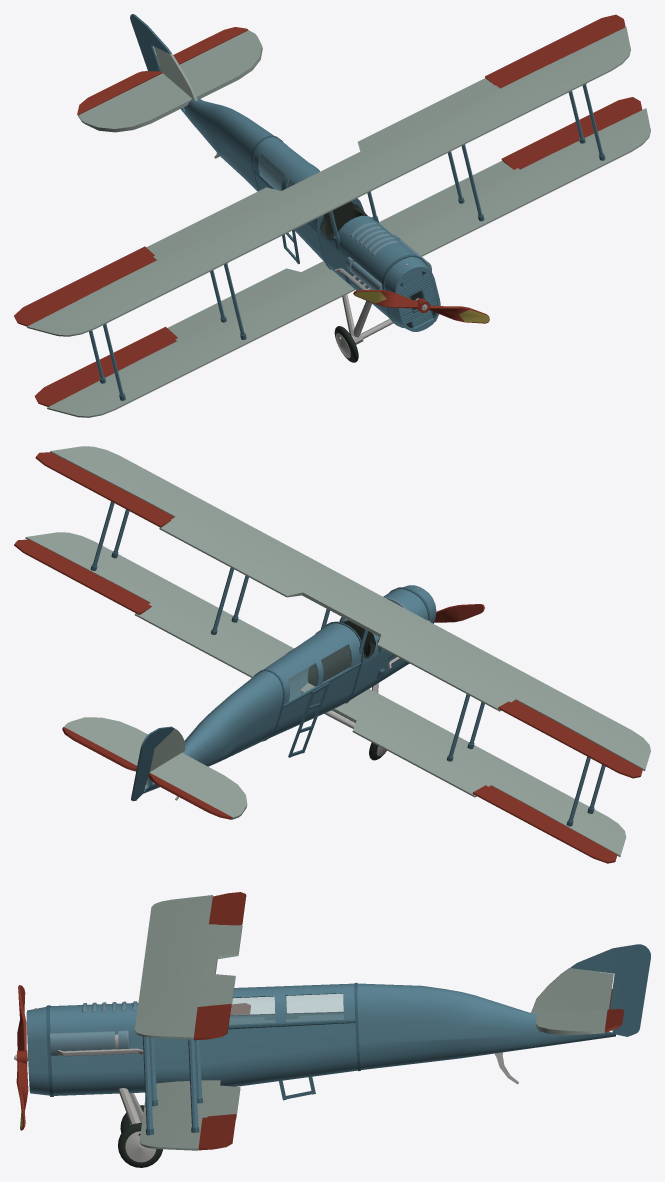
3 renders of one model, top to bottom at view 1: azimuth 30°, elevation 25°; view 2: azimuth 150°, elevation 25°; view 3: azimuth 270°, elevation 25°, orthographic. The views are drawn at different scales.
Visible parts, largest first — view 1: ffd1Lattice2; view 2: ffd1Lattice2; view 3: ffd1Lattice2.
Part boxes in pixels (<box>): ffd1Lattice2: <box>14,14,650,417</box>; ffd1Lattice2: <box>14,446,650,863</box>; ffd1Lattice2: <box>14,892,650,1167</box>.
Size of the model in its own units: 14.76 by 5.81 by 11.71.
